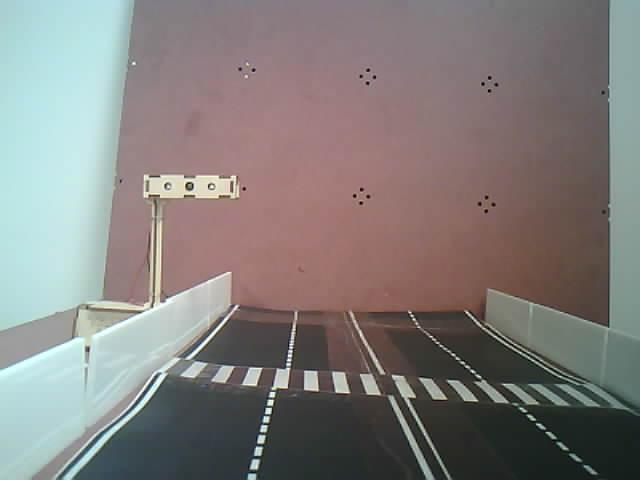crosswalk: (132, 344, 640, 442)
no: (113, 155, 253, 313)
